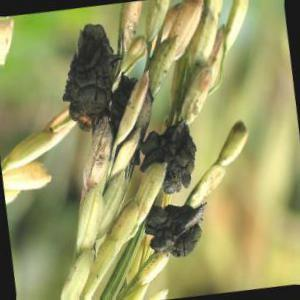Leaf_Scald: (70, 25, 118, 130), (146, 116, 193, 194), (150, 203, 208, 260)
